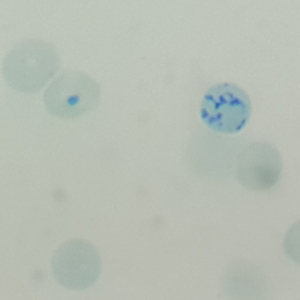aggregate reticulocyte: (198, 81, 252, 135)
erythrocyte: (1, 36, 62, 95), (41, 69, 102, 121), (48, 238, 101, 291), (235, 137, 282, 191)
